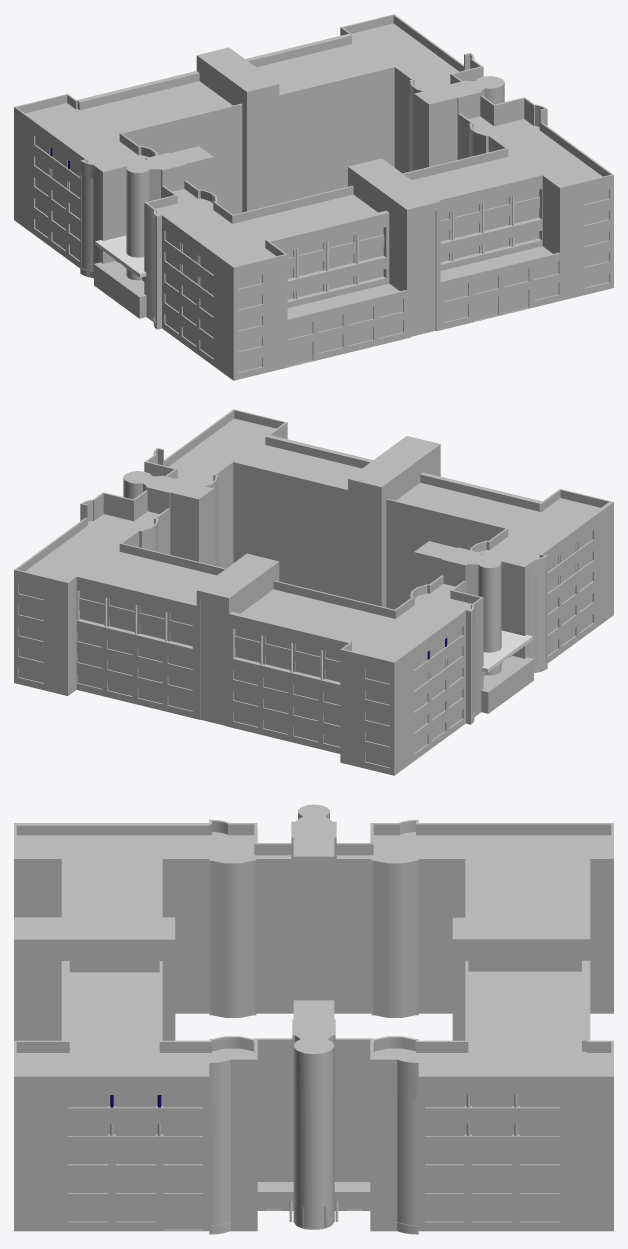
Rendered from EDIFICIO TC.FBX.
The picture shows the model from 3 angles, top to bottom: view 1: azimuth 30°, elevation 25°; view 2: azimuth 150°, elevation 25°; view 3: azimuth 270°, elevation 25°; orthographic projection. The views are drawn at different scales.
Parts seen in each view (by area): view 1: CARAVISTA, SUELO TERRAZA, VENHO_TI, VENHOC_TI, BLANCO MATE, PAVES, VENHOE_TI, VERDE UJI; view 2: CARAVISTA, SUELO TERRAZA, VENHO_TI, VENHOC_TI, PAVES, BLANCO MATE, VERDE UJI; view 3: CARAVISTA, SUELO TERRAZA, VENHO_TI, PAVES, VENHOC_TI, VERDE UJI, VENHOE_TI.
Boxes of the visible parts, x1,y1,x2,y2 form: CARAVISTA: (14, 14, 613, 380); SUELO TERRAZA: (25, 23, 602, 318); VENHO_TI: (35, 136, 608, 372); VENHOC_TI: (150, 198, 435, 336); BLANCO MATE: (95, 196, 514, 299); PAVES: (81, 175, 156, 321); VENHOE_TI: (288, 289, 528, 365); VERDE UJI: (48, 147, 200, 328); CARAVISTA: (14, 409, 613, 775); SUELO TERRAZA: (25, 418, 600, 661); VENHO_TI: (19, 531, 592, 767); VENHOC_TI: (200, 593, 477, 725); PAVES: (471, 570, 546, 716); BLANCO MATE: (105, 597, 532, 679); VERDE UJI: (102, 542, 579, 723); CARAVISTA: (14, 804, 613, 1234); SUELO TERRAZA: (16, 832, 611, 1190); VENHO_TI: (68, 1095, 559, 1221); PAVES: (211, 1095, 416, 1225); VENHOC_TI: (265, 1075, 362, 1209); VERDE UJI: (108, 1095, 519, 1193); VENHOE_TI: (163, 1204, 202, 1229).
Size of the model in its own units: 78.15 by 24.5 by 75.75.
